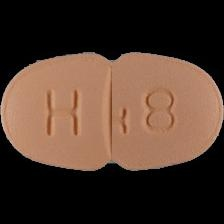61919-657: (0, 0, 224, 224)
